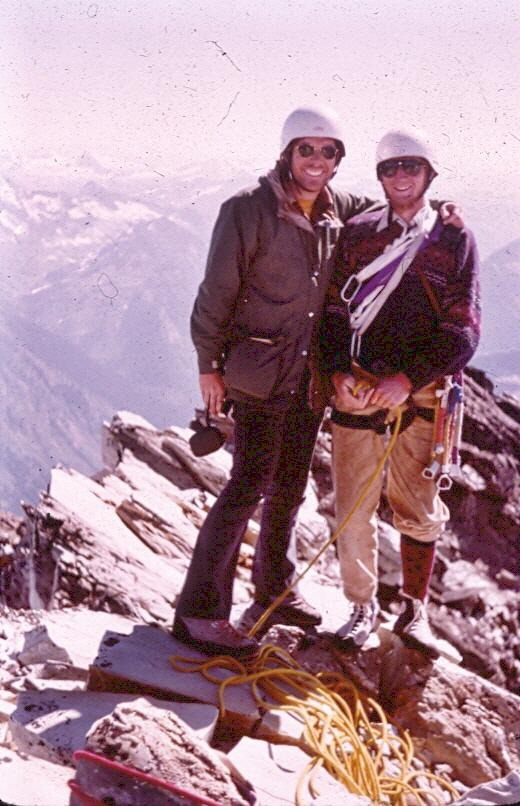helmet: (275, 97, 351, 169), (371, 120, 443, 180)
